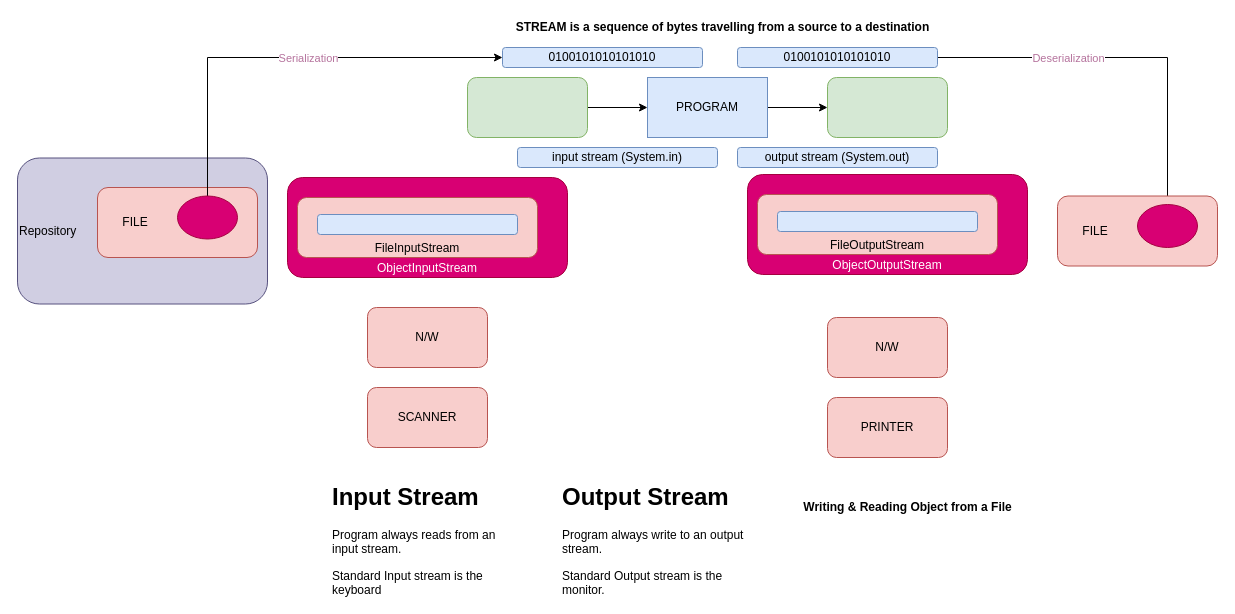
Some shapes in this 1235 by 614 pixel diagram are drawn without their labels. The centre of each missing label's shape, as x and y in pixels:
"InputStream" goes at (417,224).
"Java Object" goes at (207,217).
"Java Objeect" goes at (1167,226).
"KEYBOARD" goes at (527,107).
"MONITOR" goes at (887,107).
"OutputStream" goes at (877,221).
